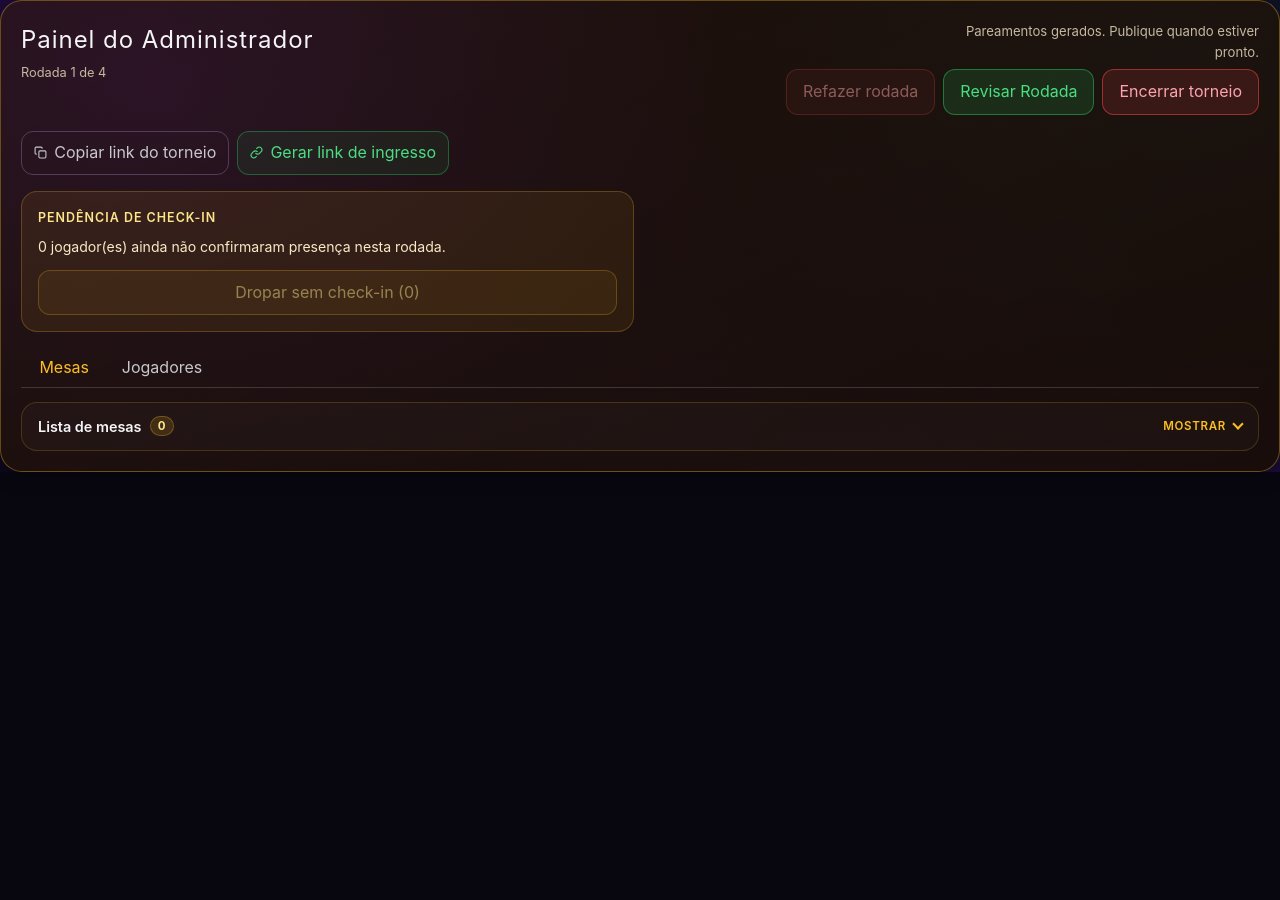
OwnerControlPanel › publica as mesas na mesma modal de revisar rodada
Expected: the button "Publicar mesas" is not shown
Click the button "Revisar Rodada": (1019, 92) [943,69,1094,115]
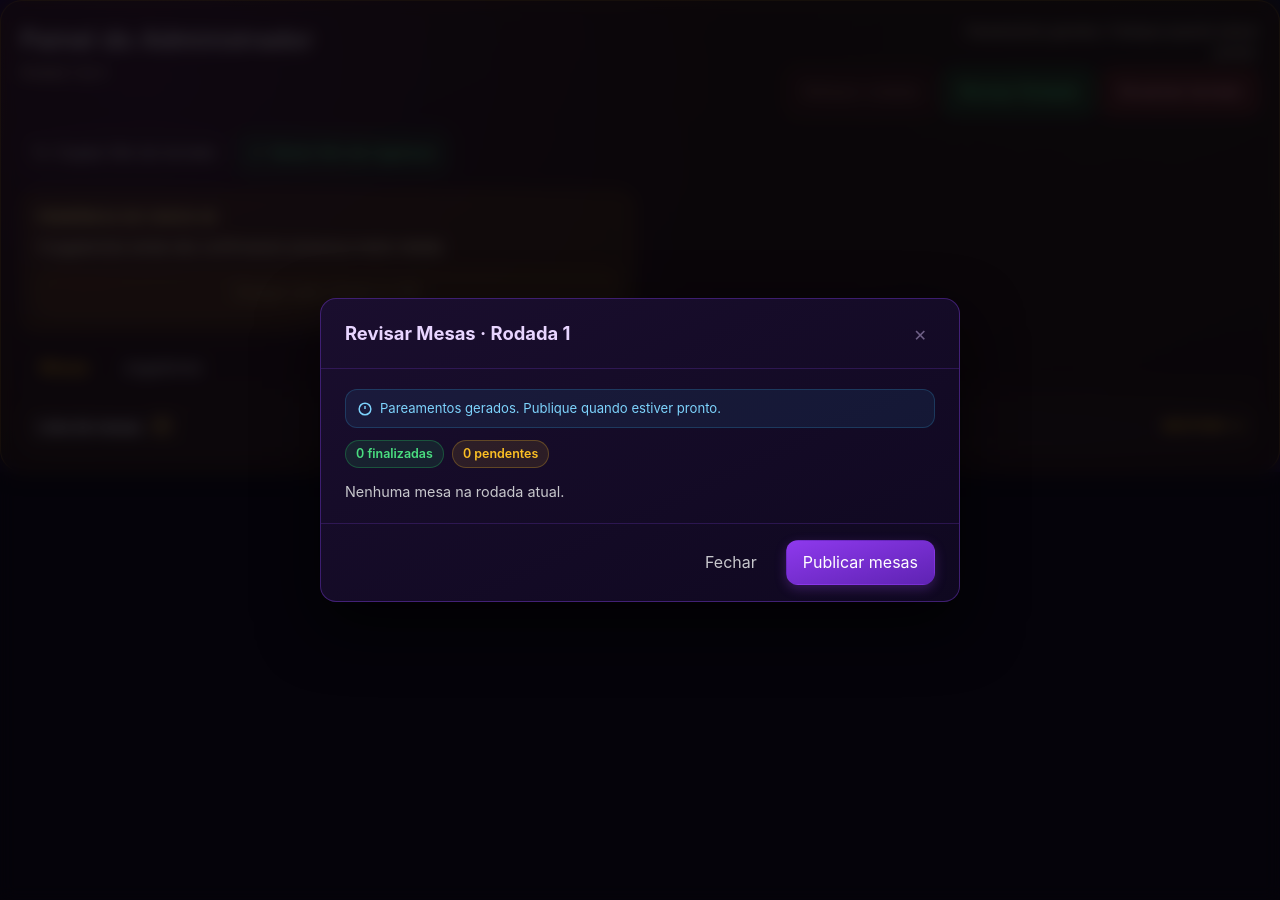
Result: the button "Publicar mesas" is enabled at [786,540,935,585]
